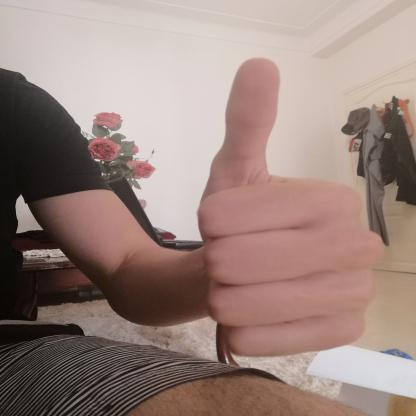ALIF: (180, 43, 394, 372)
